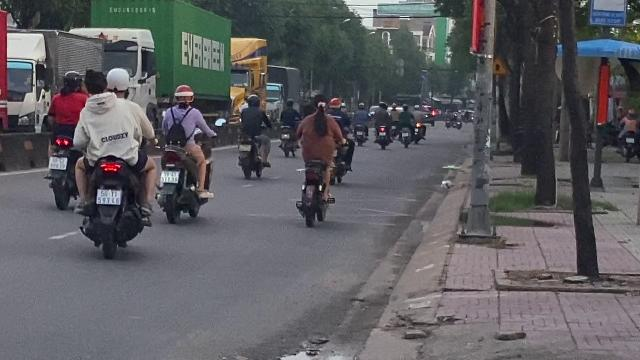helmet: (105, 67, 132, 99), (59, 70, 82, 94), (172, 84, 194, 106)
licenseplate: (96, 189, 122, 205), (161, 170, 179, 184), (49, 157, 67, 169)
motorcyclist: (71, 65, 157, 259), (156, 84, 216, 222), (42, 69, 90, 209), (294, 92, 340, 228)
nohelmet: (84, 70, 108, 98), (310, 95, 332, 121)
